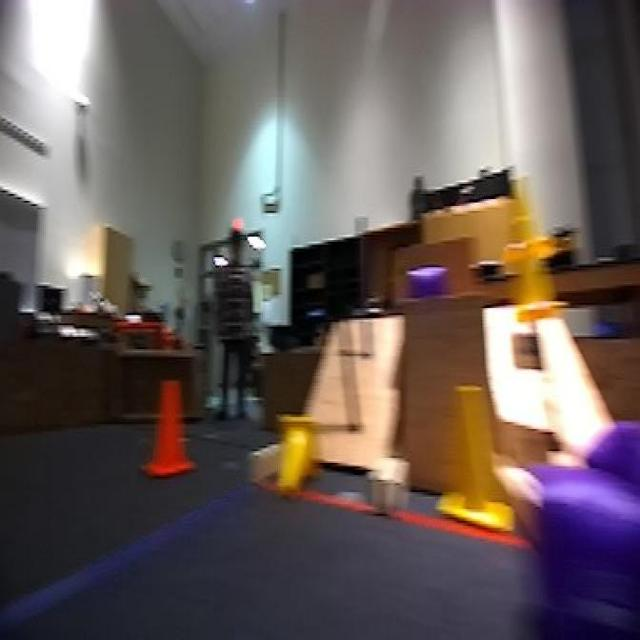frc_cone: (435, 378, 510, 526), (512, 209, 568, 327), (503, 176, 557, 260), (269, 417, 323, 494)
frc_cube: (528, 464, 640, 640), (579, 407, 640, 495), (403, 260, 456, 300)
